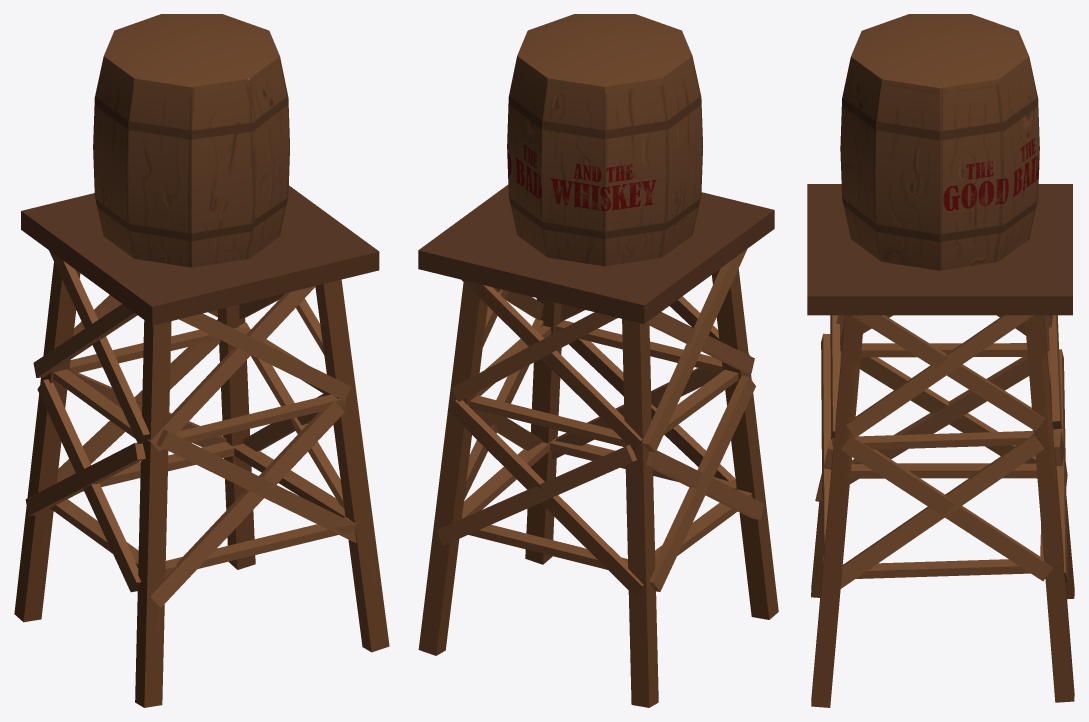
Rendered from Water_Tower.fbx.
The picture shows the model from 3 angles, left to right: view 1: azimuth 30°, elevation 25°; view 2: azimuth 150°, elevation 25°; view 3: azimuth 270°, elevation 25°; orthographic projection.
Visible parts, largest first — view 1: pCube39; view 2: pCube39; view 3: pCube39.
Part boxes in pixels (box(x1,y1,x2,y2)): pCube39: box(14, 14, 389, 707); pCube39: box(418, 14, 778, 707); pCube39: box(807, 14, 1074, 707).
Bounding box in the file's own units: 6.54 × 15.26 × 6.09.
